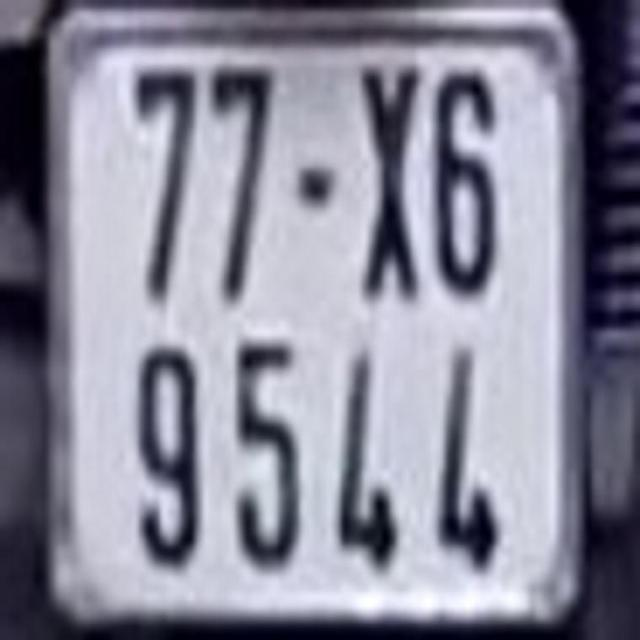4: (432, 333, 506, 572), (330, 338, 404, 575)
5: (230, 334, 304, 574)
6: (430, 63, 500, 299)
7: (207, 61, 276, 304), (131, 64, 197, 306)
9: (128, 339, 202, 567)
X: (357, 55, 423, 304)
